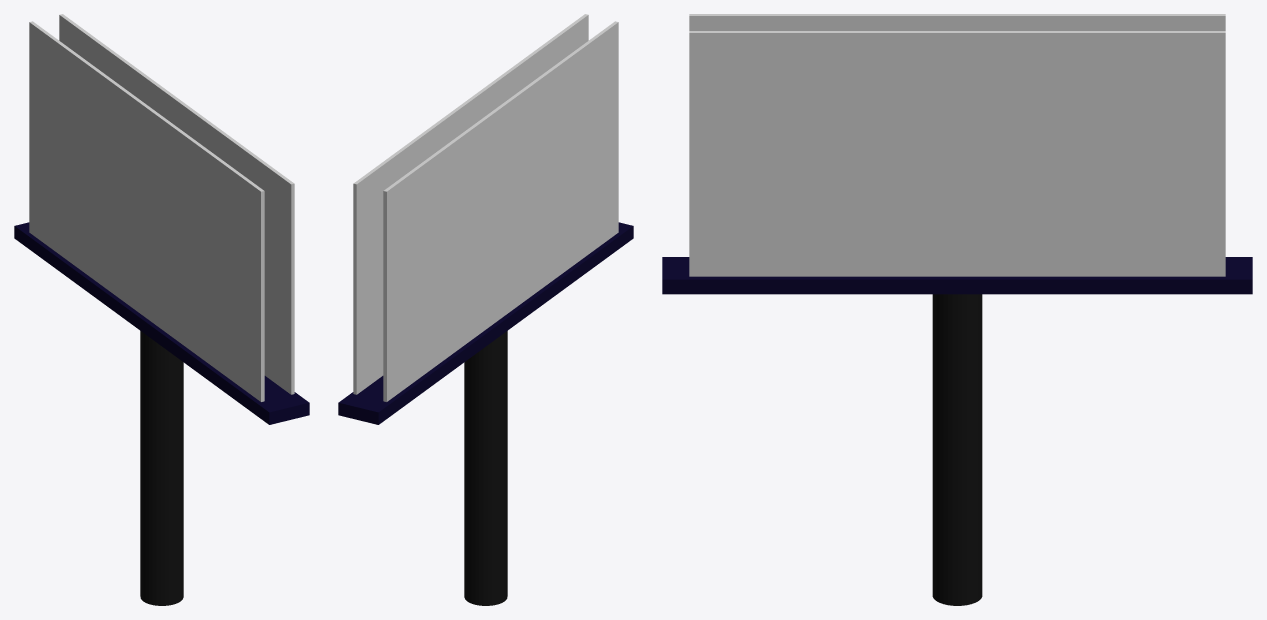
File: CustomizableBoard.fbx
3 views of the same model, side by side, from view 1: azimuth 30°, elevation 25°; view 2: azimuth 150°, elevation 25°; view 3: azimuth 270°, elevation 25° (orthographic). The views are drawn at different scales.
Visible parts, largest first — view 1: Cube.001, Cylinder, Cube; view 2: Cube.001, Cylinder, Cube; view 3: Cube.001, Cylinder, Cube.
Boxes of the visible parts, x1=… form: Cube.001: x1=29, y1=14, x2=294, y2=401; Cylinder: x1=140, y1=331, x2=183, y2=605; Cube: x1=14, y1=222, x2=309, y2=424; Cube.001: x1=353, y1=14, x2=618, y2=401; Cylinder: x1=464, y1=331, x2=507, y2=605; Cube: x1=338, y1=222, x2=633, y2=424; Cube.001: x1=689, y1=14, x2=1225, y2=276; Cylinder: x1=932, y1=294, x2=982, y2=605; Cube: x1=662, y1=257, x2=1252, y2=294.
Size of the model in its own units: 200 by 2352 by 2200.
